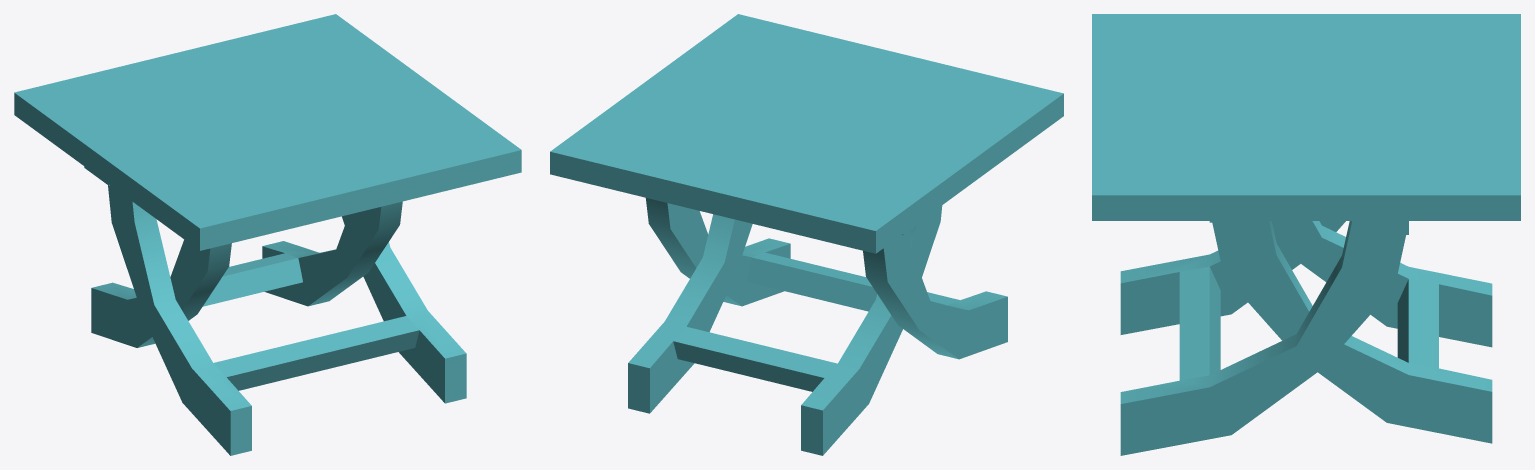
File: SM_Table.fbx
3 views of the same model, side by side, from view 1: azimuth 30°, elevation 25°; view 2: azimuth 150°, elevation 25°; view 3: azimuth 270°, elevation 25° (orthographic). The views are drawn at different scales.
Visible parts, largest first — view 1: TableTop, TableLegs; view 2: TableTop, TableLegs; view 3: TableTop, TableLegs.
Part boxes in pixels (<box>): TableTop: <box>14,14,521,250</box>; TableLegs: <box>84,166,466,455</box>; TableTop: <box>550,14,1063,253</box>; TableLegs: <box>628,198,1007,455</box>; TableTop: <box>1092,14,1520,220</box>; TableLegs: <box>1120,221,1492,455</box>.
Size of the model in its own units: 90.24 by 66.17 by 90.24.
